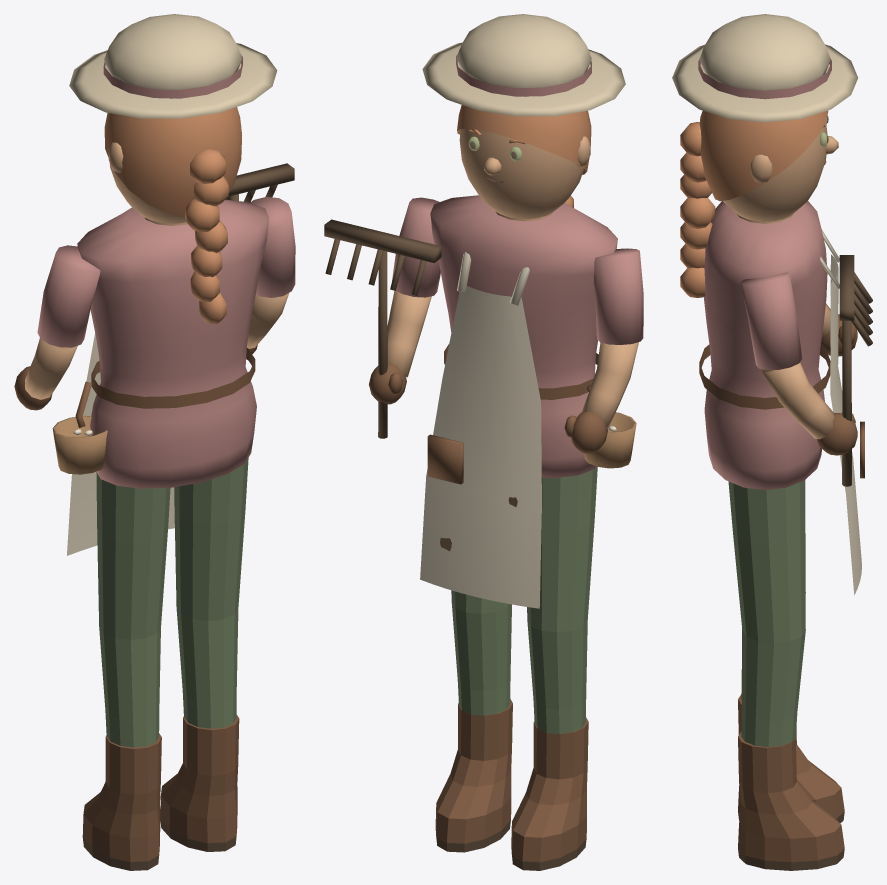
The model's file is SM_NPC_FLORA.glb.
3 renders of one model, left to right at view 1: azimuth 30°, elevation 25°; view 2: azimuth 150°, elevation 25°; view 3: azimuth 270°, elevation 25°, orthographic. The views are drawn at different scales.
Visible parts, largest first — view 1: SM_NPC_FLORA_BODY, SM_NPC_FLORA_HAIR, SM_NPC_FLORA_LEG_L, SM_NPC_FLORA_LEG_R, SM_NPC_FLORA_ARM_L, SM_NPC_FLORA_ARM_R, SM_NPC_FLORA_HEAD; view 2: SM_NPC_FLORA_BODY, SM_NPC_FLORA_LEG_L, SM_NPC_FLORA_HAIR, SM_NPC_FLORA_LEG_R, SM_NPC_FLORA_ARM_R, SM_NPC_FLORA_ARM_L, SM_NPC_FLORA_HEAD; view 3: SM_NPC_FLORA_BODY, SM_NPC_FLORA_LEG_R, SM_NPC_FLORA_HAIR, SM_NPC_FLORA_ARM_R, SM_NPC_FLORA_HEAD, SM_NPC_FLORA_LEG_L, SM_NPC_FLORA_ARM_L.
Part boxes in pixels (box(x1,y1,x2,y2)): SM_NPC_FLORA_BODY: box(52, 199, 269, 555); SM_NPC_FLORA_HAIR: box(69, 14, 277, 323); SM_NPC_FLORA_LEG_L: box(82, 472, 170, 870); SM_NPC_FLORA_LEG_R: box(160, 458, 248, 851); SM_NPC_FLORA_ARM_L: box(14, 245, 100, 410); SM_NPC_FLORA_ARM_R: box(225, 163, 295, 354); SM_NPC_FLORA_HEAD: box(108, 125, 241, 223); SM_NPC_FLORA_BODY: box(420, 195, 636, 608); SM_NPC_FLORA_LEG_L: box(511, 466, 597, 870); SM_NPC_FLORA_HAIR: box(422, 14, 625, 207); SM_NPC_FLORA_LEG_R: box(435, 590, 512, 852); SM_NPC_FLORA_ARM_R: box(324, 197, 441, 438); SM_NPC_FLORA_ARM_L: box(564, 248, 643, 453); SM_NPC_FLORA_HEAD: box(459, 129, 590, 218); SM_NPC_FLORA_BODY: box(699, 201, 864, 594); SM_NPC_FLORA_LEG_R: box(728, 480, 844, 870); SM_NPC_FLORA_HAIR: box(672, 14, 857, 297); SM_NPC_FLORA_ARM_R: box(740, 255, 872, 486); SM_NPC_FLORA_HEAD: box(723, 122, 838, 221); SM_NPC_FLORA_LEG_L: box(738, 480, 844, 823); SM_NPC_FLORA_ARM_L: box(821, 303, 857, 356).
Bounding box in the file's own units: 0.68 × 1.89 × 0.4215.
